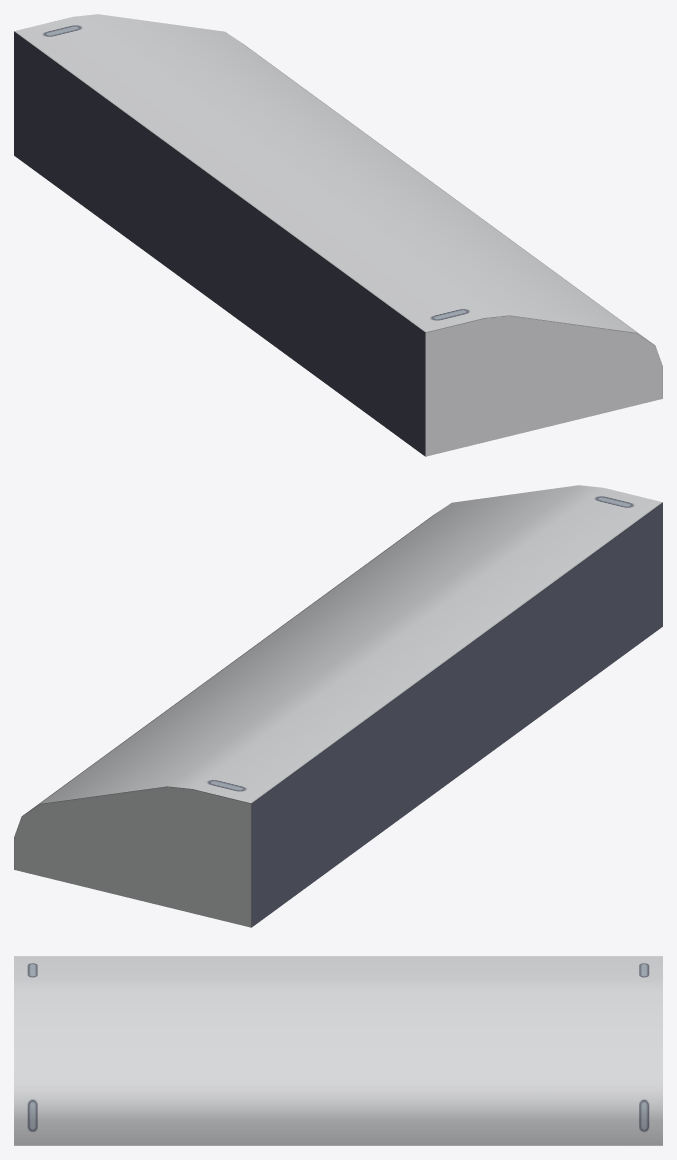
File: Roof_Border_Line_01.FBX
3 renders of one model, top to bottom at view 1: azimuth 30°, elevation 25°; view 2: azimuth 150°, elevation 25°; view 3: azimuth 270°, elevation 25°, orthographic. The views are drawn at different scales.
Parts seen in each view (by area): view 1: Roof_Border_Line_01; view 2: Roof_Border_Line_01; view 3: Roof_Border_Line_01.
Part boxes in pixels (box(x1,y1,x2,y2)): Roof_Border_Line_01: box(14, 14, 662, 456); Roof_Border_Line_01: box(14, 485, 662, 927); Roof_Border_Line_01: box(14, 956, 662, 1145).
Size of the model in its own units: 2 by 1 by 6.
3 materials, 3 textured.
